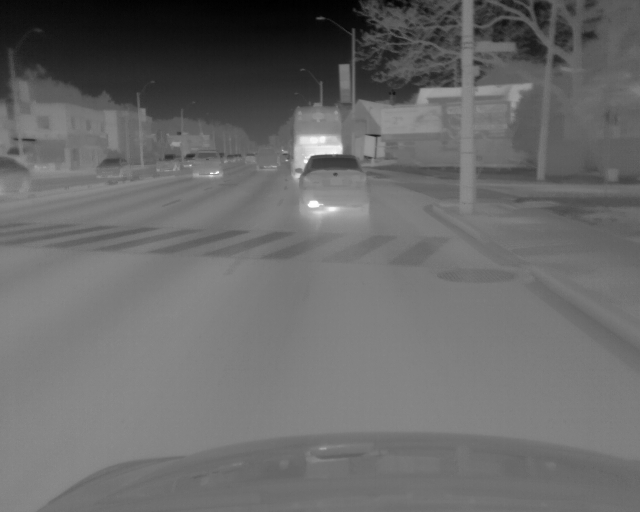car: (295, 155, 369, 217), (292, 104, 343, 179), (1, 154, 31, 202), (93, 158, 133, 182), (193, 150, 224, 179), (257, 145, 279, 170), (154, 155, 178, 173), (182, 151, 193, 169), (244, 153, 256, 165), (225, 153, 238, 164)
